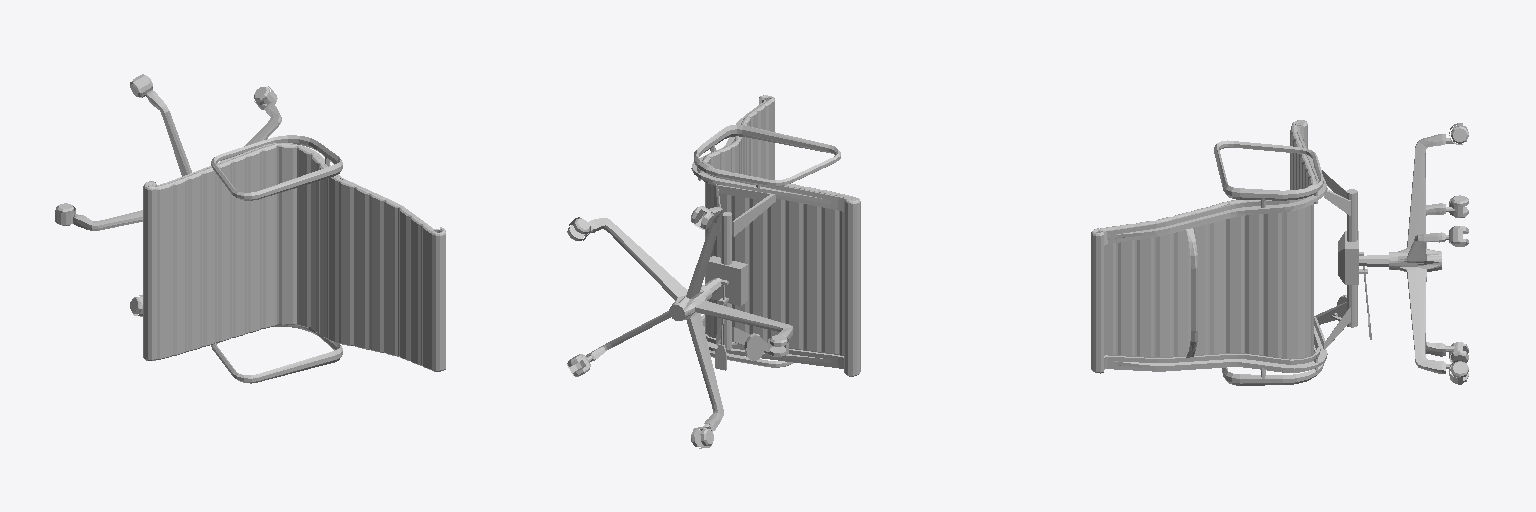
Rendered from chair_gt.obj.
3 renders of one model, left to right at view 1: azimuth 30°, elevation 25°; view 2: azimuth 150°, elevation 25°; view 3: azimuth 270°, elevation 25°, orthographic.
Bounding box in the file's own units: 1.12 × 1.17 × 1.67.